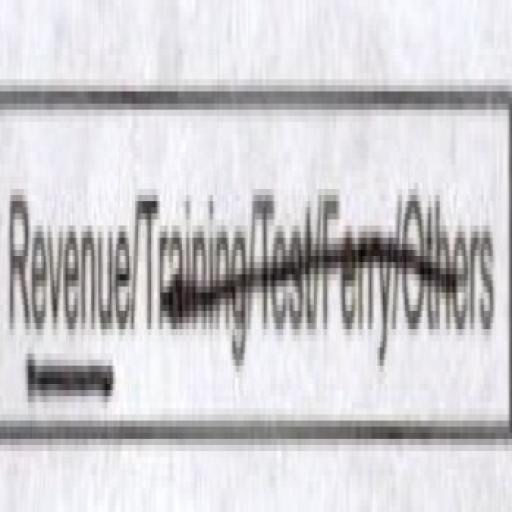check: (0, 0, 132, 500)
